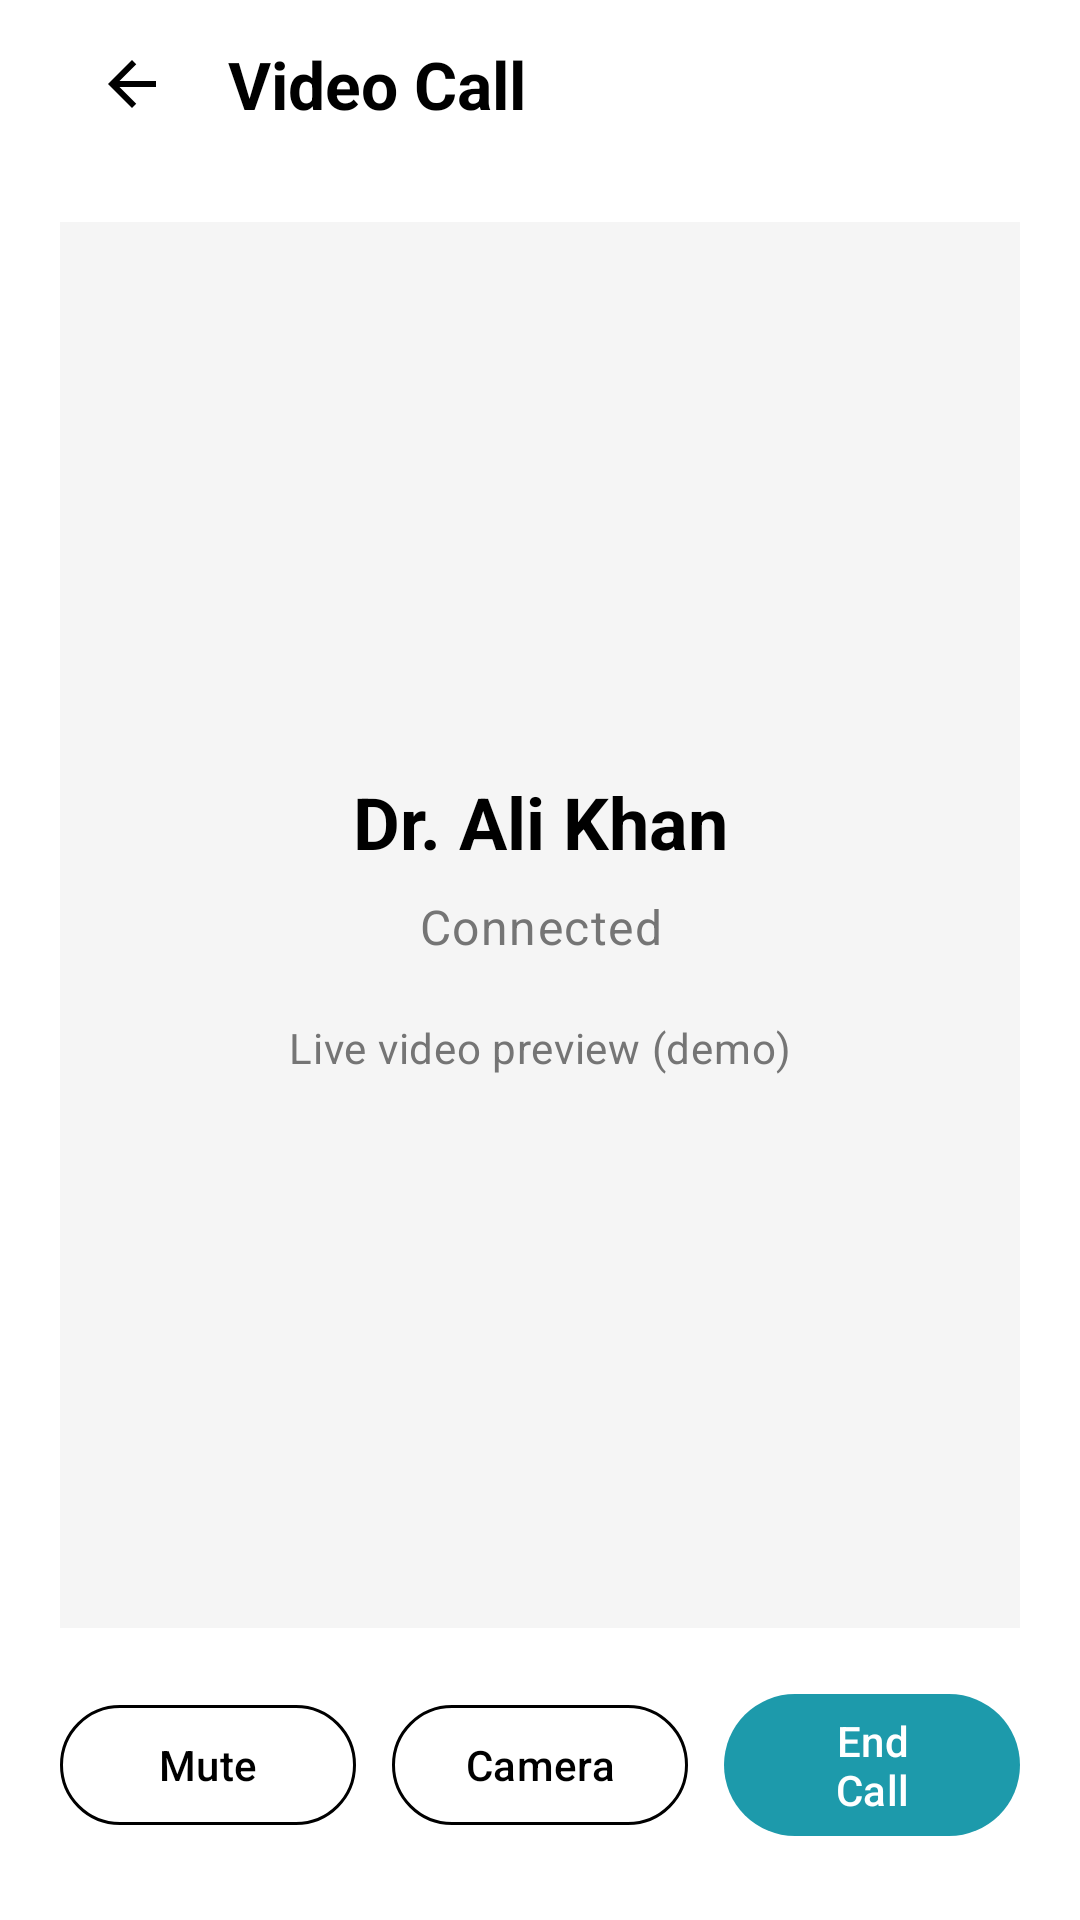

Point at icon controls on the screen. Image size 1080w x 1920h, points as point (x, y).
Back: point (132, 84)
